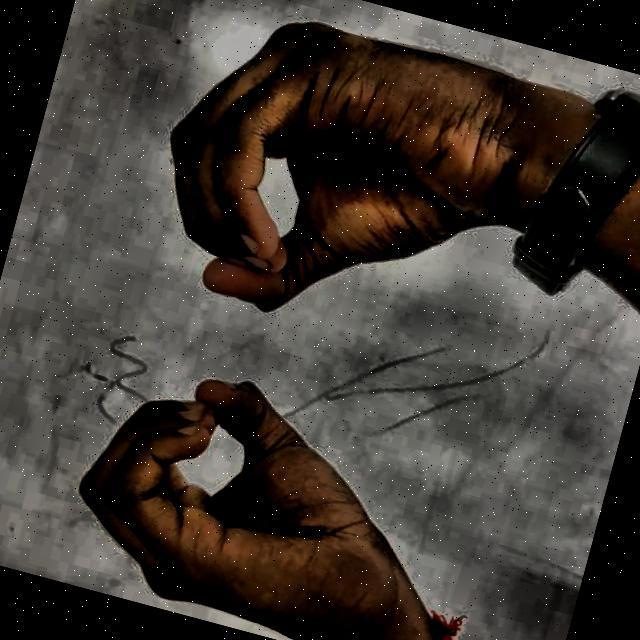Bisharga: (16, 0, 575, 640)
